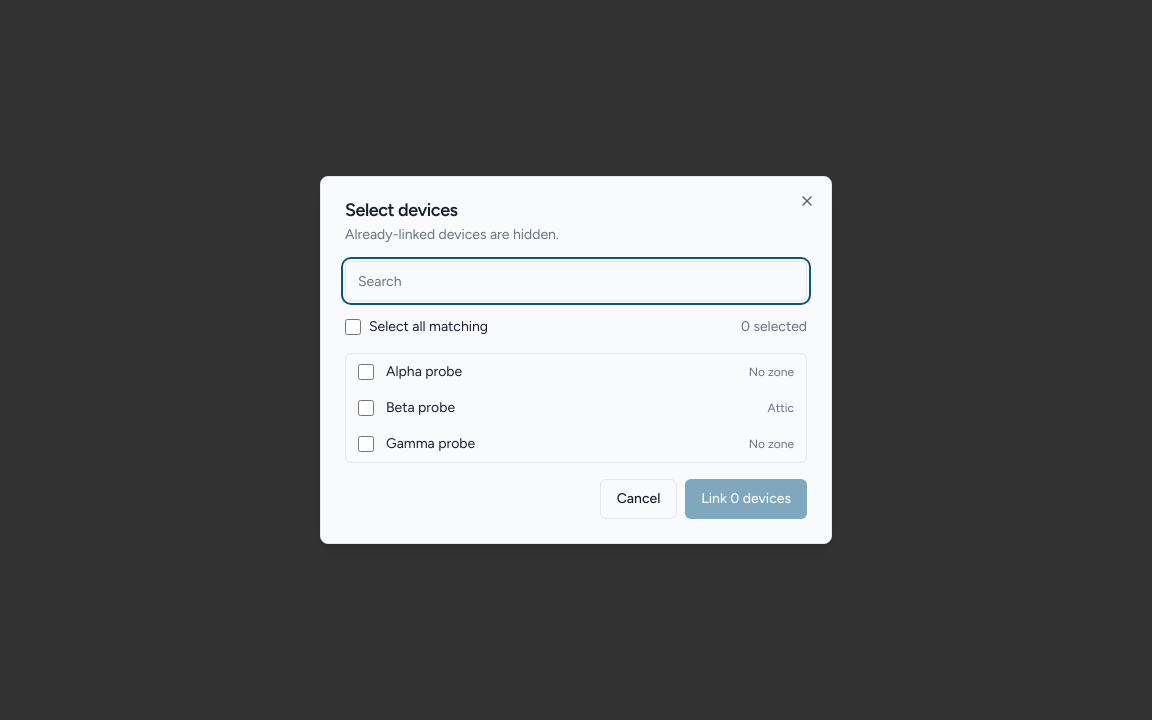
Scenario: DeviceLinkDialog › selects only the matching devices, leaving the rest of the basket alone
This screenshot has width=1152, height=720.
Click the checkbox labelled "Alpha probe" at (366, 372), box [358,364,374,380]
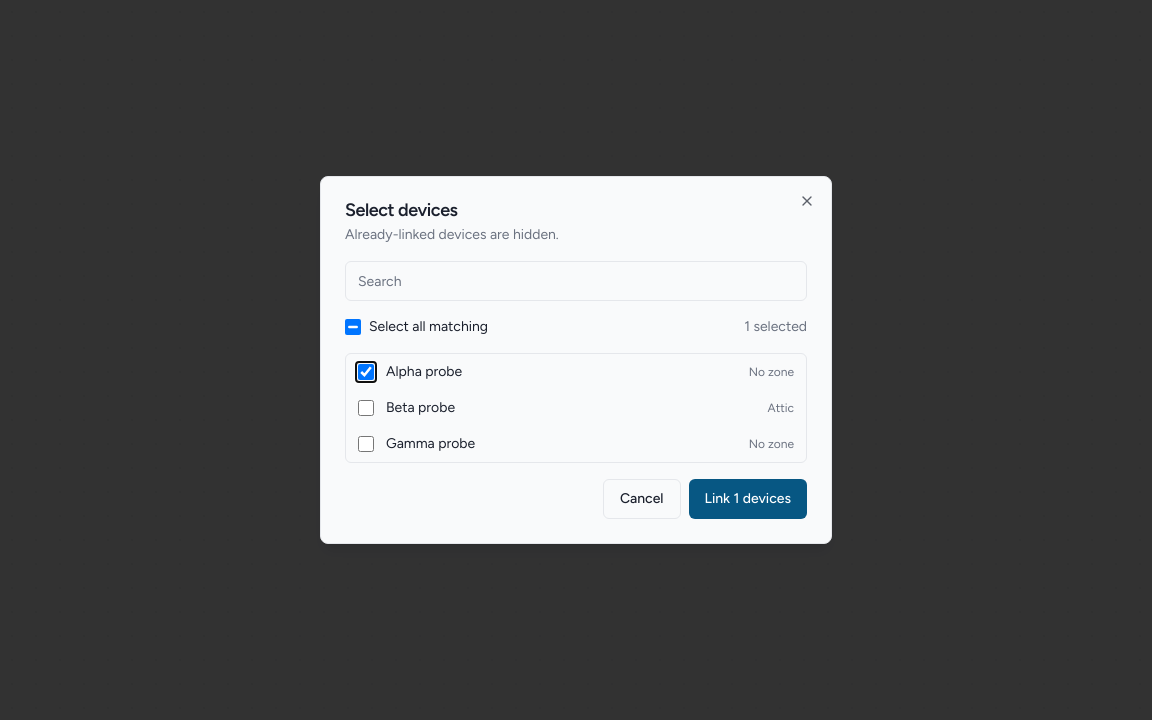
Type "probe" into the field with placeholder "Search" at (576, 281), box [345,261,807,301]
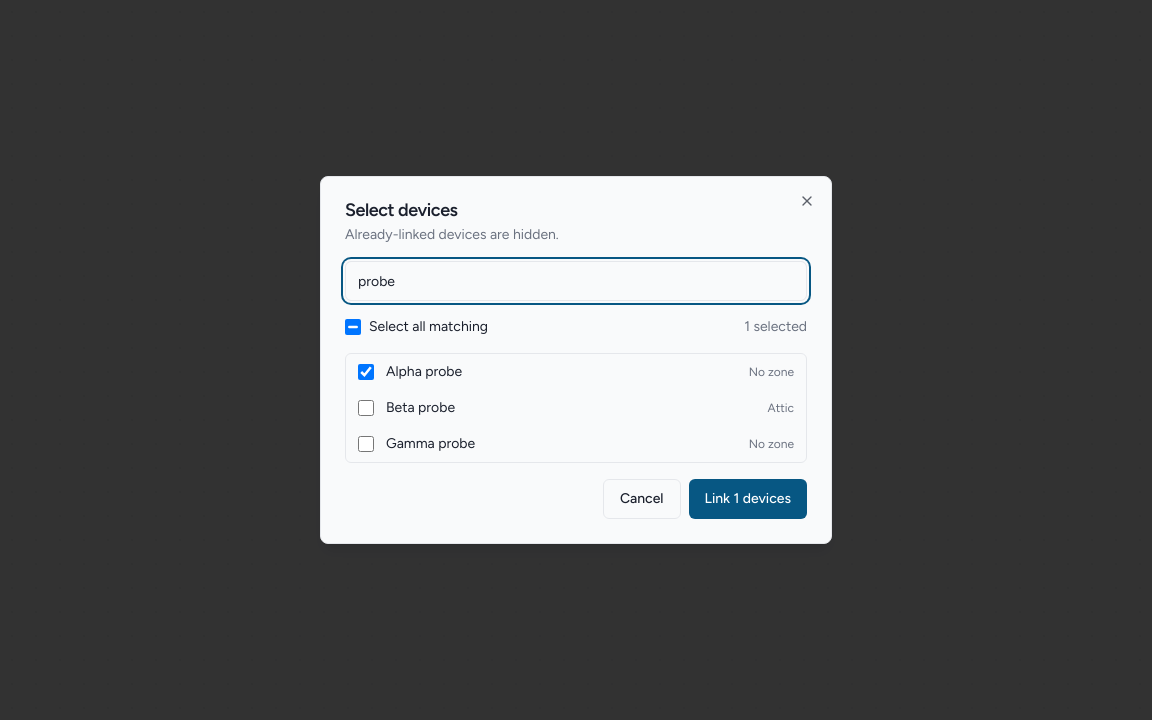
Replace the text in the field with placeholder "Search" with "Beta" at (576, 281), box [345,261,807,301]
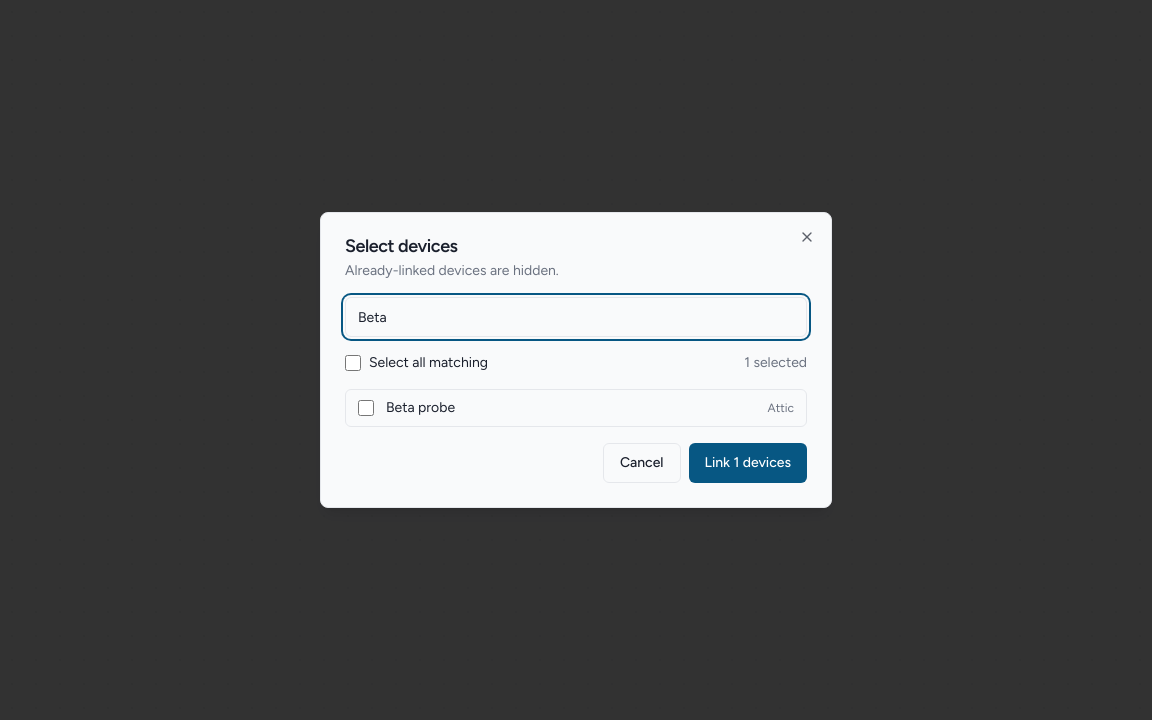
Click the checkbox labelled "Select all matching" at (353, 363), box [345,355,361,371]
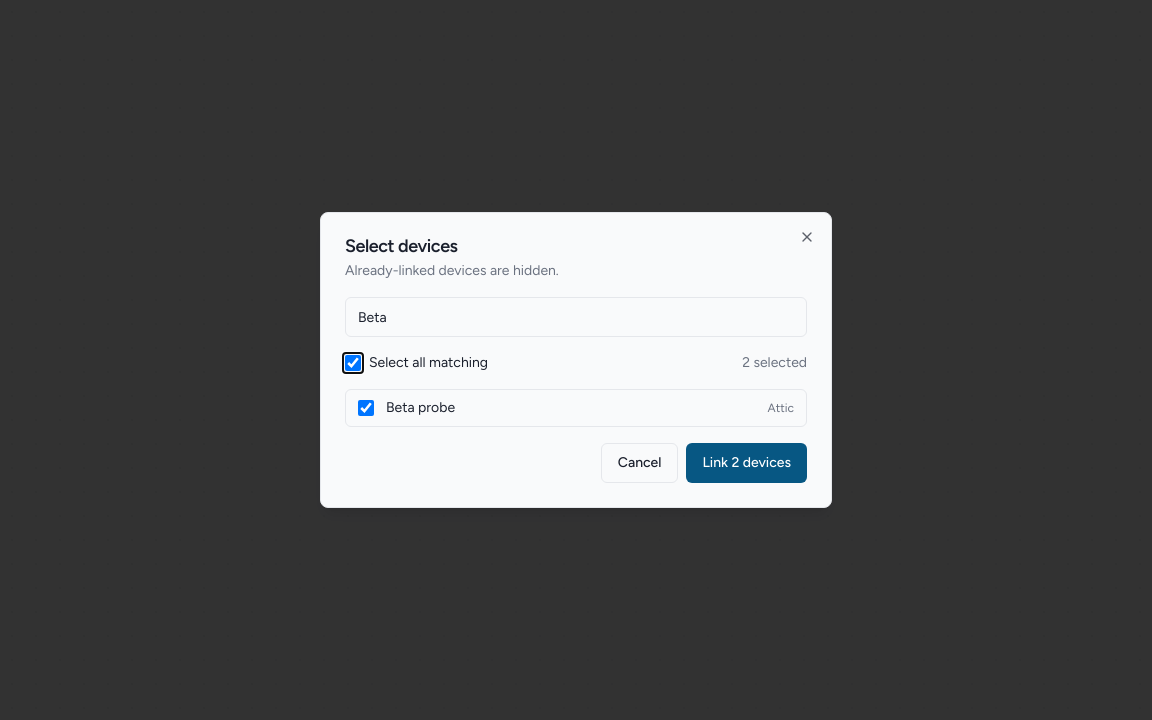
Check: the text "2 selected" is shown, box [742,353,807,373]
